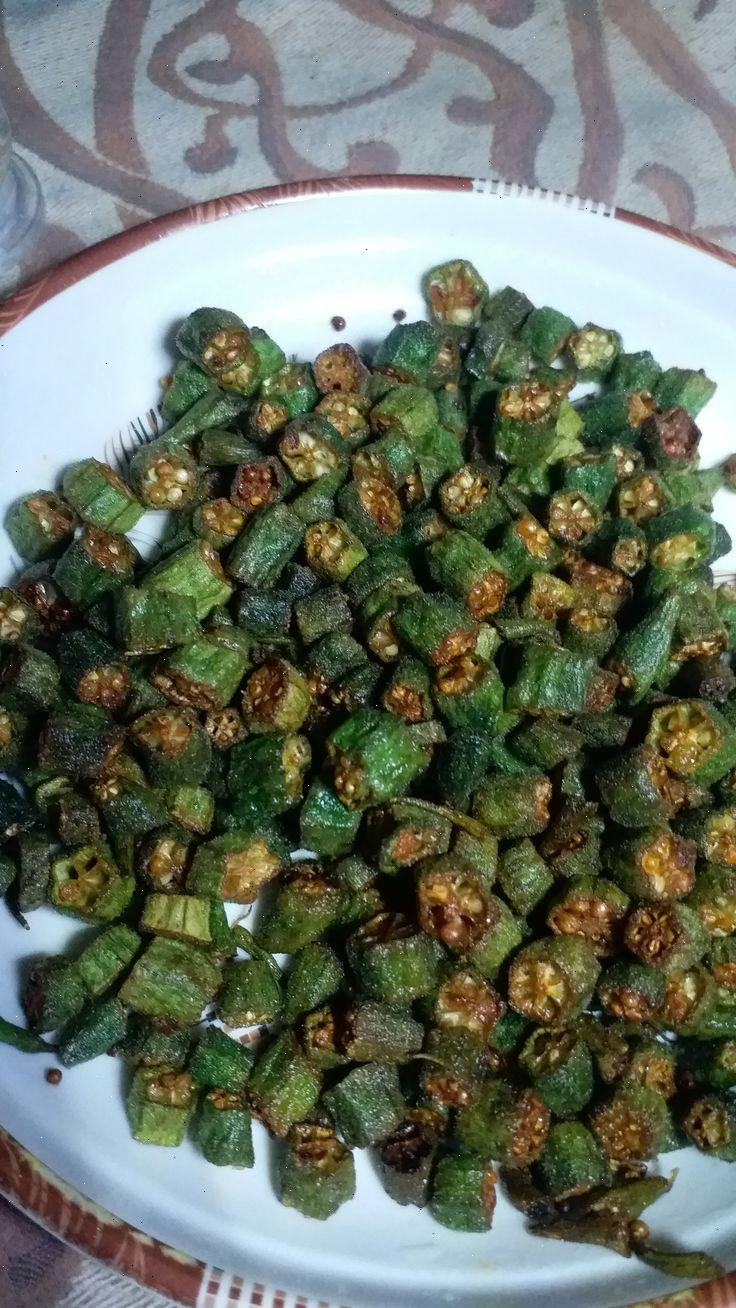bhindi: (4, 385, 736, 1022)
